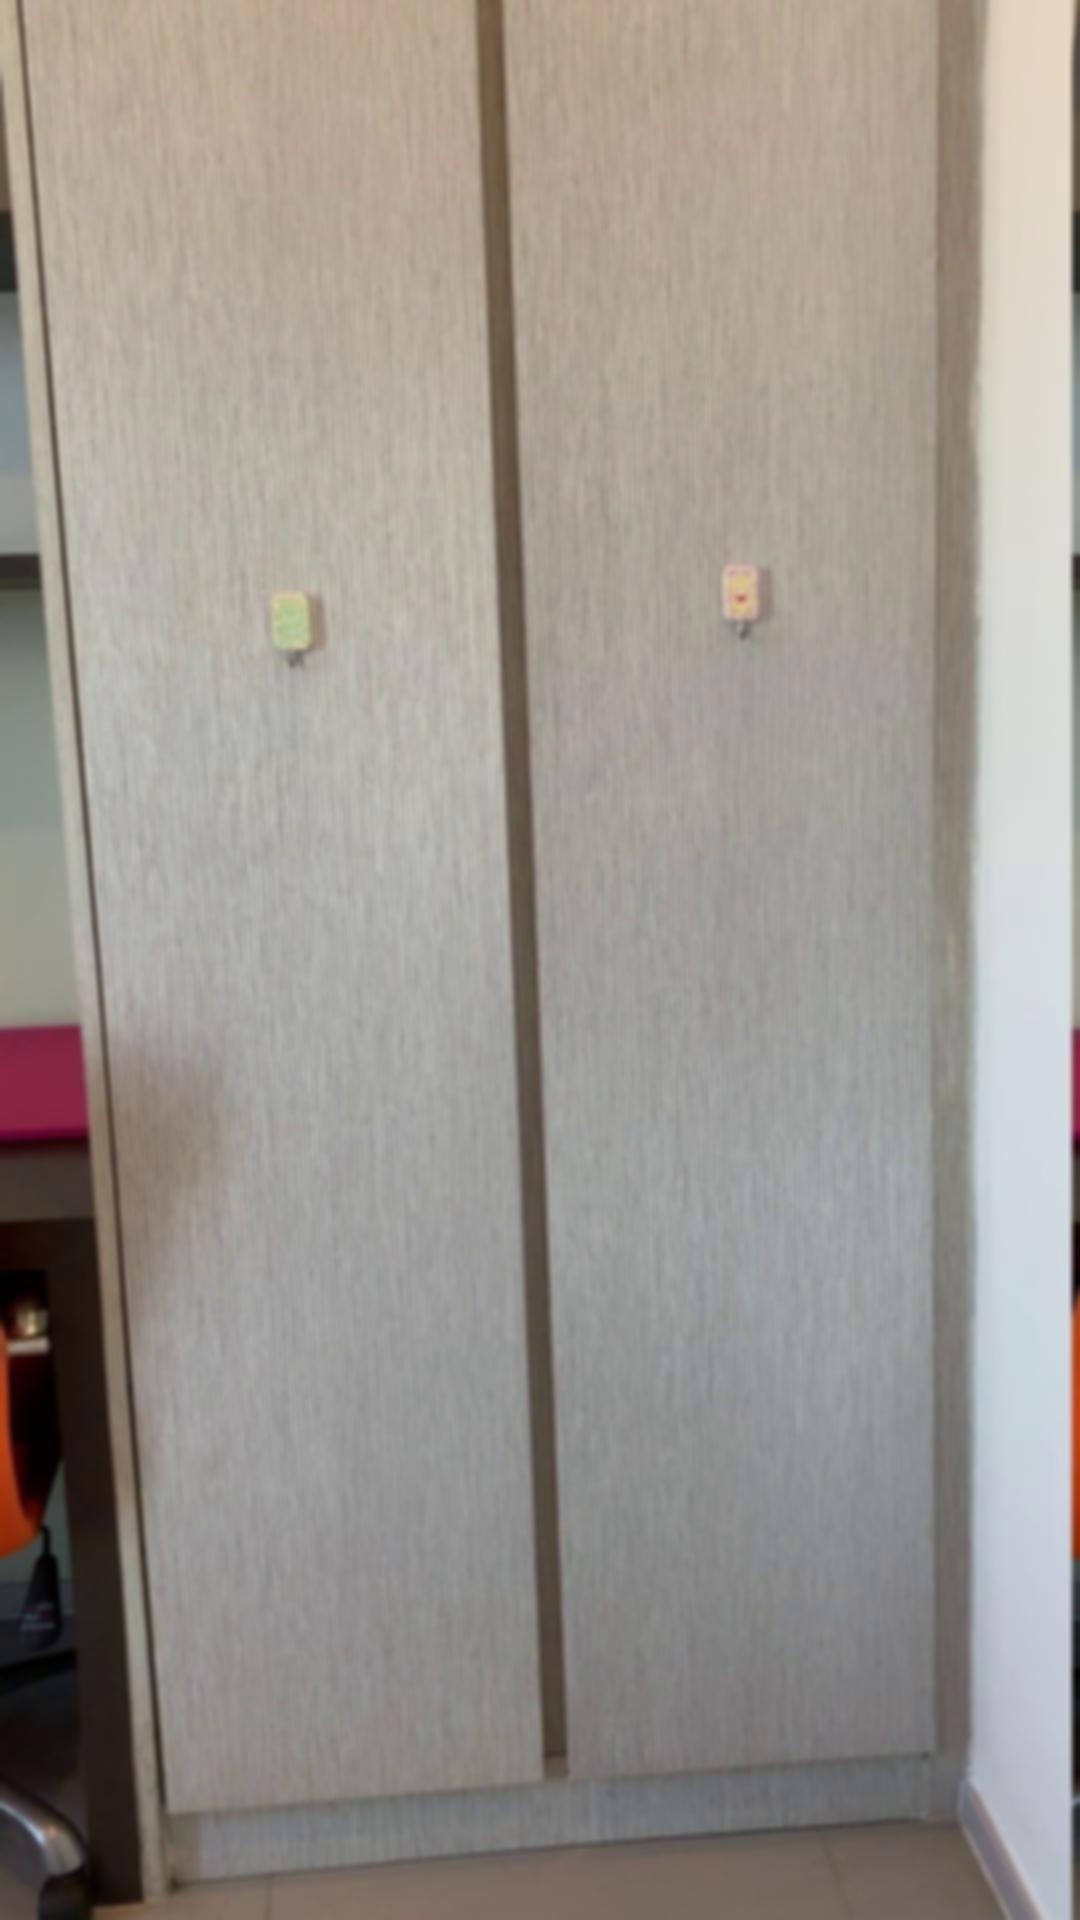Armario: (9, 8, 1005, 1854)
